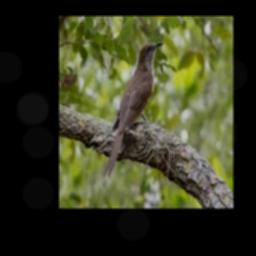Cuckoo: (102, 41, 163, 181)
